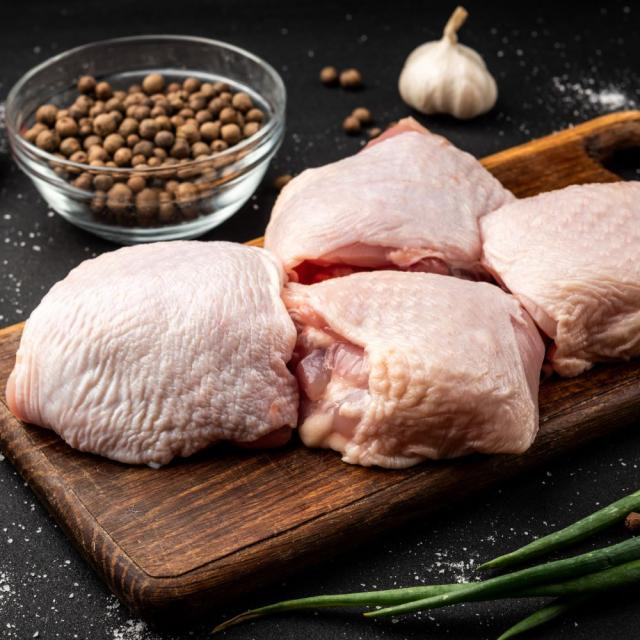thigh: (4, 231, 264, 451), (292, 266, 553, 472), (259, 116, 503, 284)
